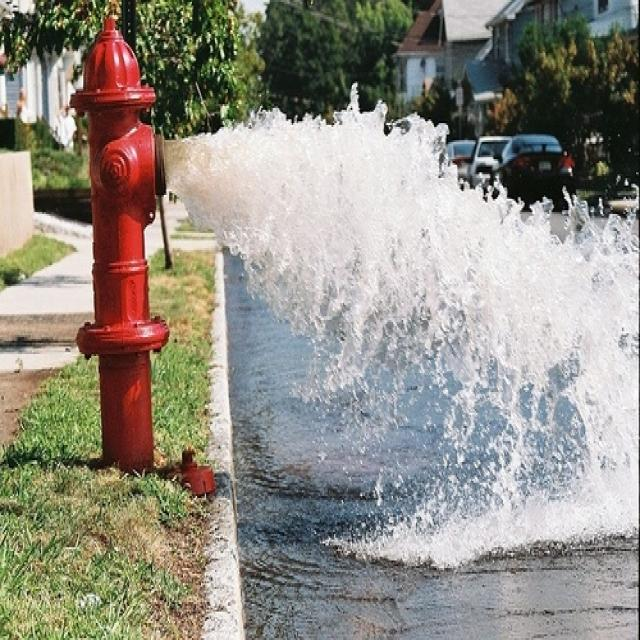fire_hydrant: (41, 22, 242, 492)
